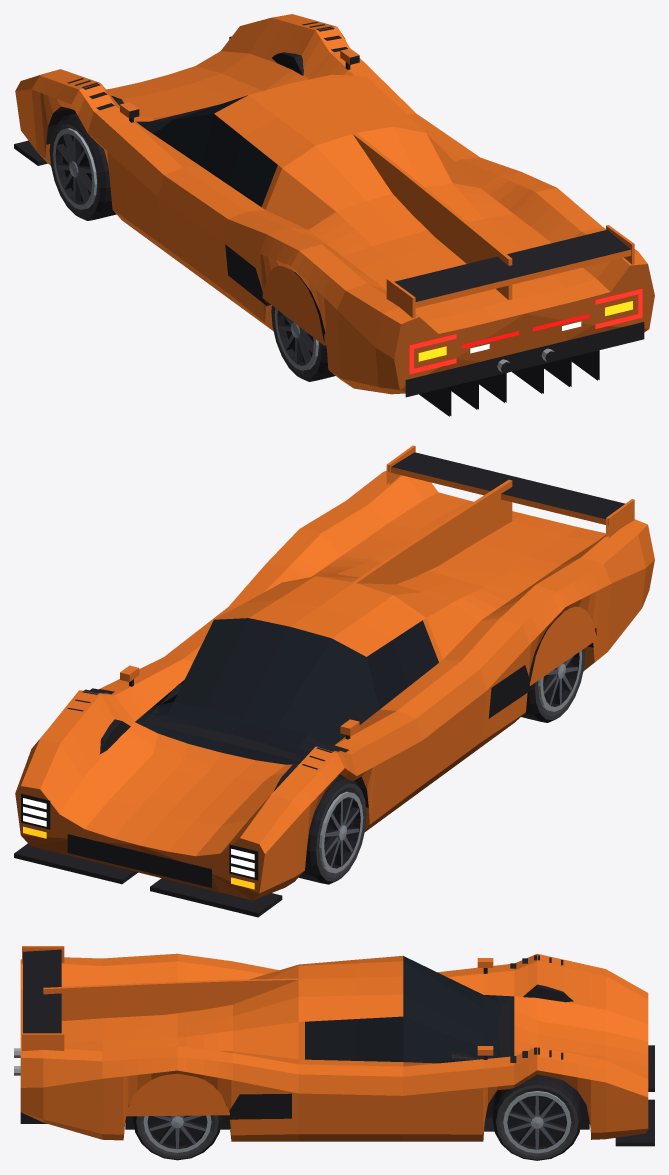
The model's file is afterglow.glb.
3 renders of one model, top to bottom at view 1: azimuth 30°, elevation 25°; view 2: azimuth 150°, elevation 25°; view 3: azimuth 270°, elevation 25°, orthographic. The views are drawn at different scales.
Parts seen in each view (by area): view 1: Body, Rim_FL, Tire_FL, Rim_RL, Tire_RL, brake_L, brake_R; view 2: Body, Rim_FL, Tire_FL, Rim_RL, Cabin, Tire_RL; view 3: Body, Rim_FR, Tire_FR, Rim_RR, Tire_RR, Cabin.
Part boxes in pixels (<box>): Body: <box>14,14,654,416</box>; Rim_FL: <box>53,128,96,209</box>; Tire_FL: <box>49,113,116,220</box>; Rim_RL: <box>274,308,318,370</box>; Tire_RL: <box>271,305,335,381</box>; brake_L: <box>409,334,456,374</box>; brake_R: <box>595,288,642,328</box>; Body: <box>14,445,654,917</box>; Rim_FL: <box>319,791,363,873</box>; Tire_FL: <box>299,777,366,884</box>; Rim_RL: <box>538,650,581,711</box>; Cabin: <box>144,684,332,829</box>; Tire_RL: <box>521,648,585,722</box>; Body: <box>14,946,654,1146</box>; Rim_FR: <box>503,1091,571,1153</box>; Tire_FR: <box>492,1074,581,1160</box>; Rim_RR: <box>143,1115,211,1152</box>; Tire_RR: <box>133,1115,221,1160</box>; Cabin: <box>428,995,510,1131</box>.
Bounding box in the file's own units: 1.98 × 1.12 × 4.9.
